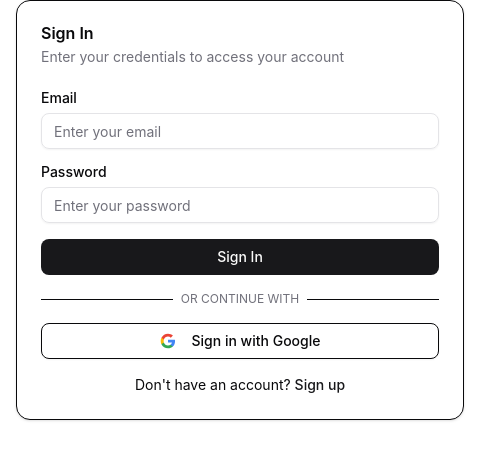
SignInForm › shows validation error for short password
In the field with placeholder "Enter your email": [240, 131] box top-left (41, 113), bottom-right (439, 149), type "test@example.com"
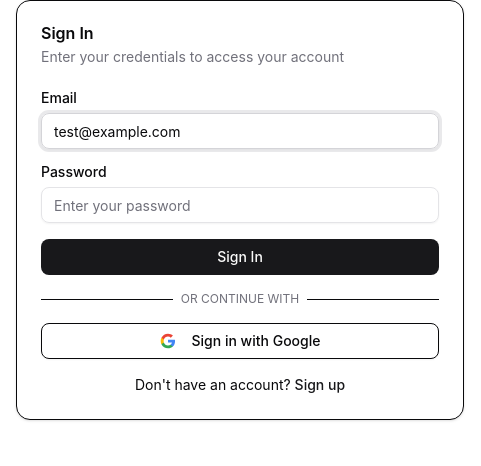
In the password field with placeholder "Enter your password": [240, 205] box top-left (41, 187), bottom-right (439, 223), type "123"
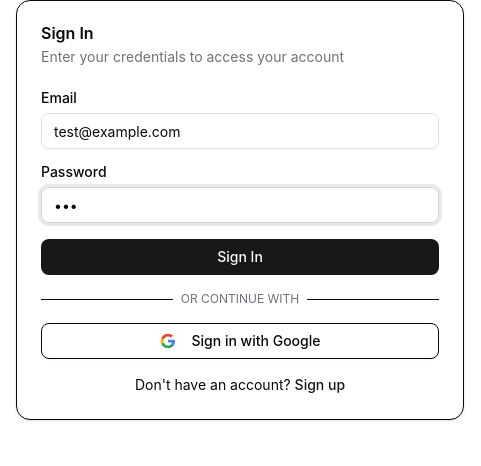
Click the button "Sign In": [240, 257] box top-left (41, 239), bottom-right (439, 275)
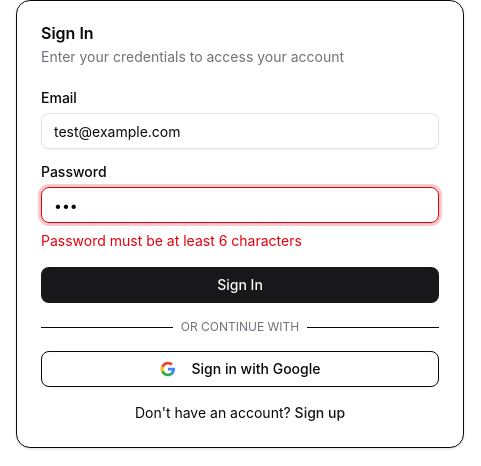
Expected: the text "Password must be at least 6 characters" is shown, top-left (41, 232), bottom-right (302, 249)
